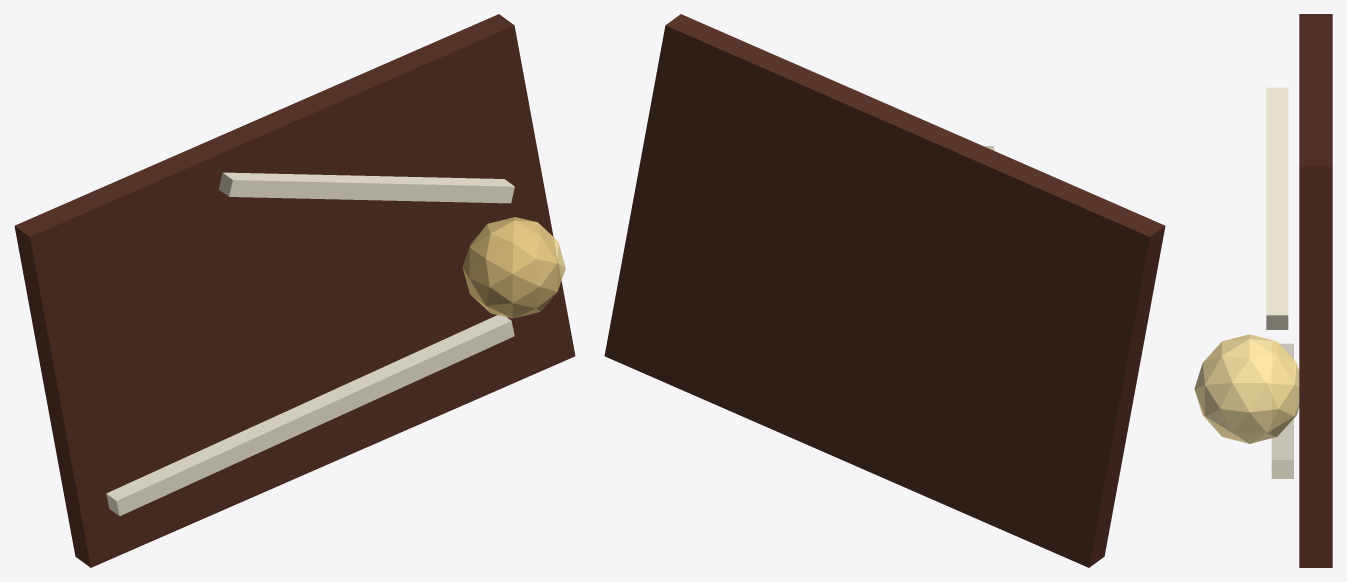
Rendered from 02_world_prop_polish.glb.
The picture shows the model from 3 angles, left to right: view 1: azimuth 30°, elevation 25°; view 2: azimuth 150°, elevation 25°; view 3: azimuth 270°, elevation 25°; orthographic projection. The views are drawn at different scales.
Visible parts, largest first — view 1: object_overlay_plate, edge_wear_a, glow_socket, edge_wear_b; view 2: object_overlay_plate; view 3: object_overlay_plate, glow_socket, edge_wear_b, edge_wear_a.
Part boxes in pixels (bbox=[...]): object_overlay_plate: bbox=[14, 14, 575, 567]; edge_wear_a: bbox=[106, 314, 514, 516]; glow_socket: bbox=[462, 217, 565, 318]; edge_wear_b: bbox=[219, 172, 514, 203]; object_overlay_plate: bbox=[604, 14, 1165, 567]; object_overlay_plate: bbox=[1299, 14, 1332, 567]; glow_socket: bbox=[1194, 334, 1299, 443]; edge_wear_b: bbox=[1266, 87, 1288, 329]; edge_wear_a: bbox=[1271, 343, 1293, 478].
Size of the model in its own units: 1.22 by 0.9371 by 0.25.
